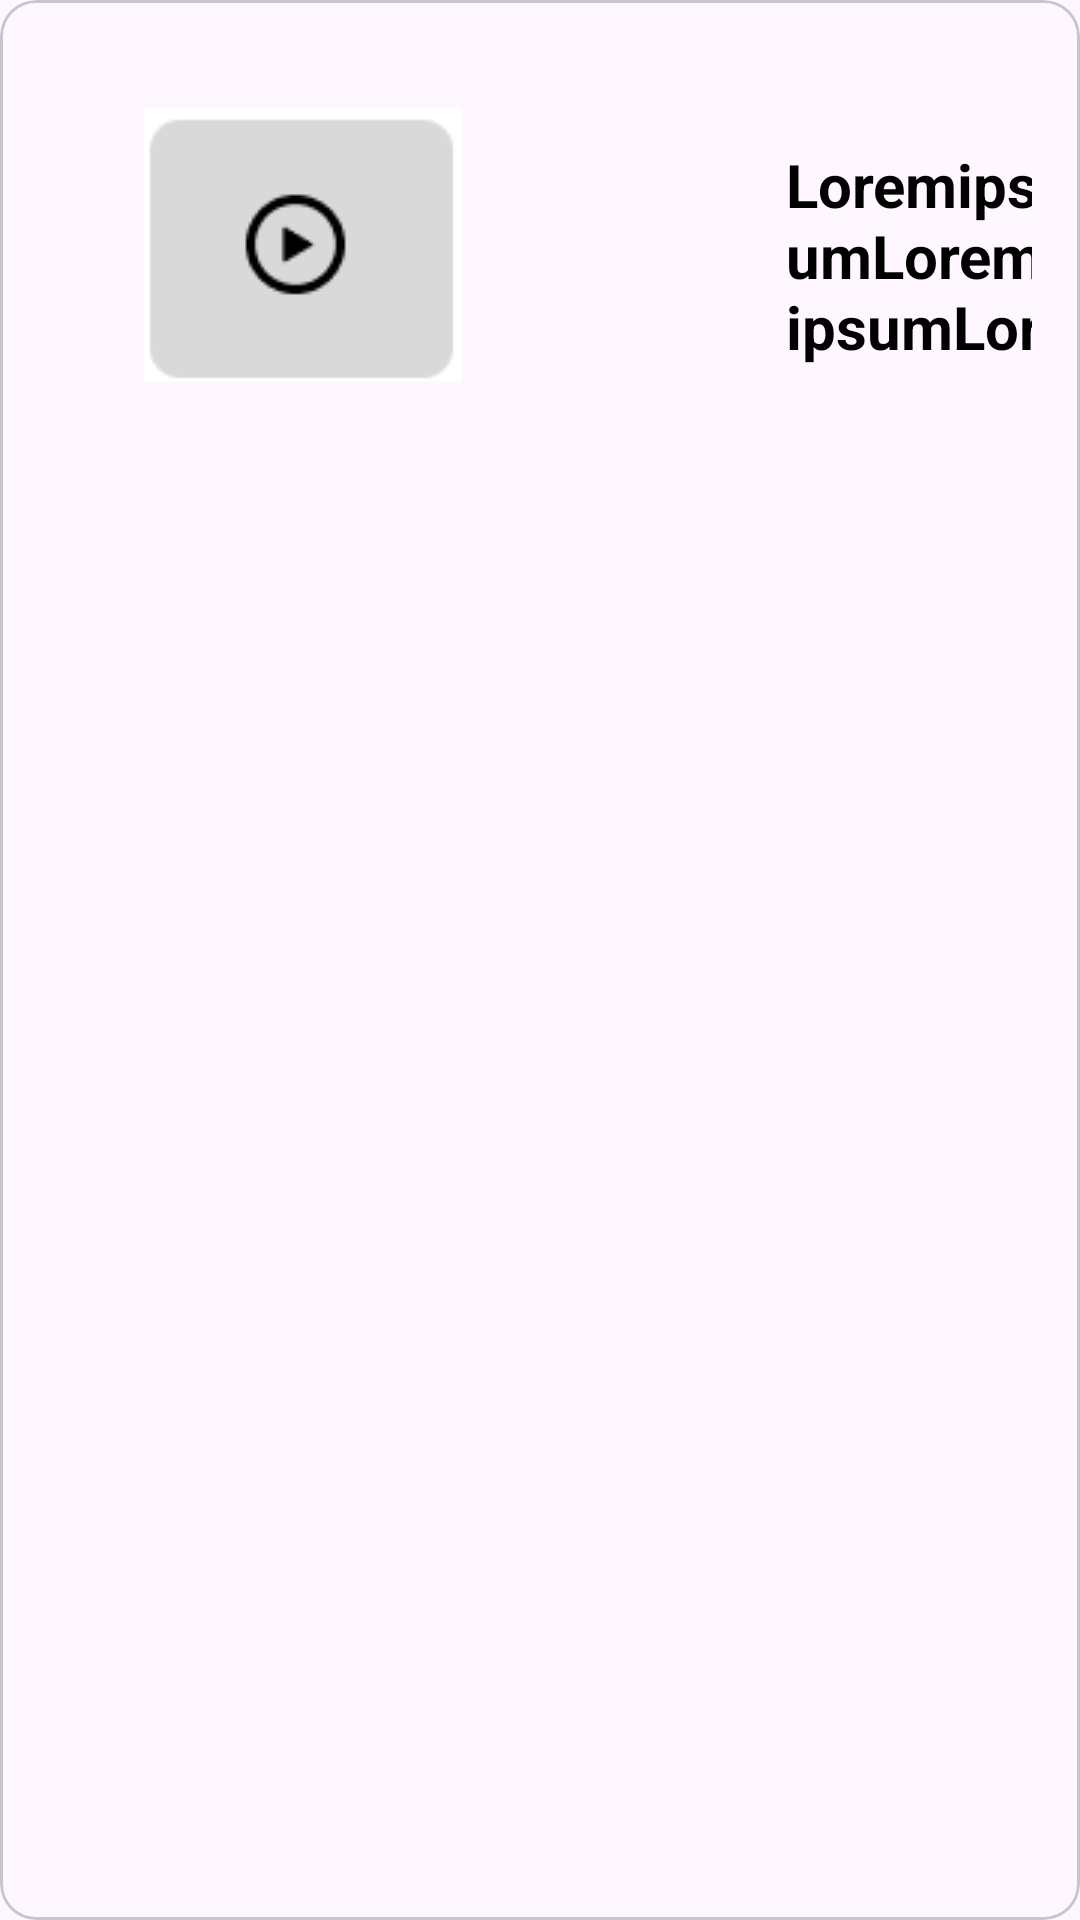

Where to tap for icons on this 1080*1920 app screen, as (x=x, y=y):
play: (x=301, y=249)
